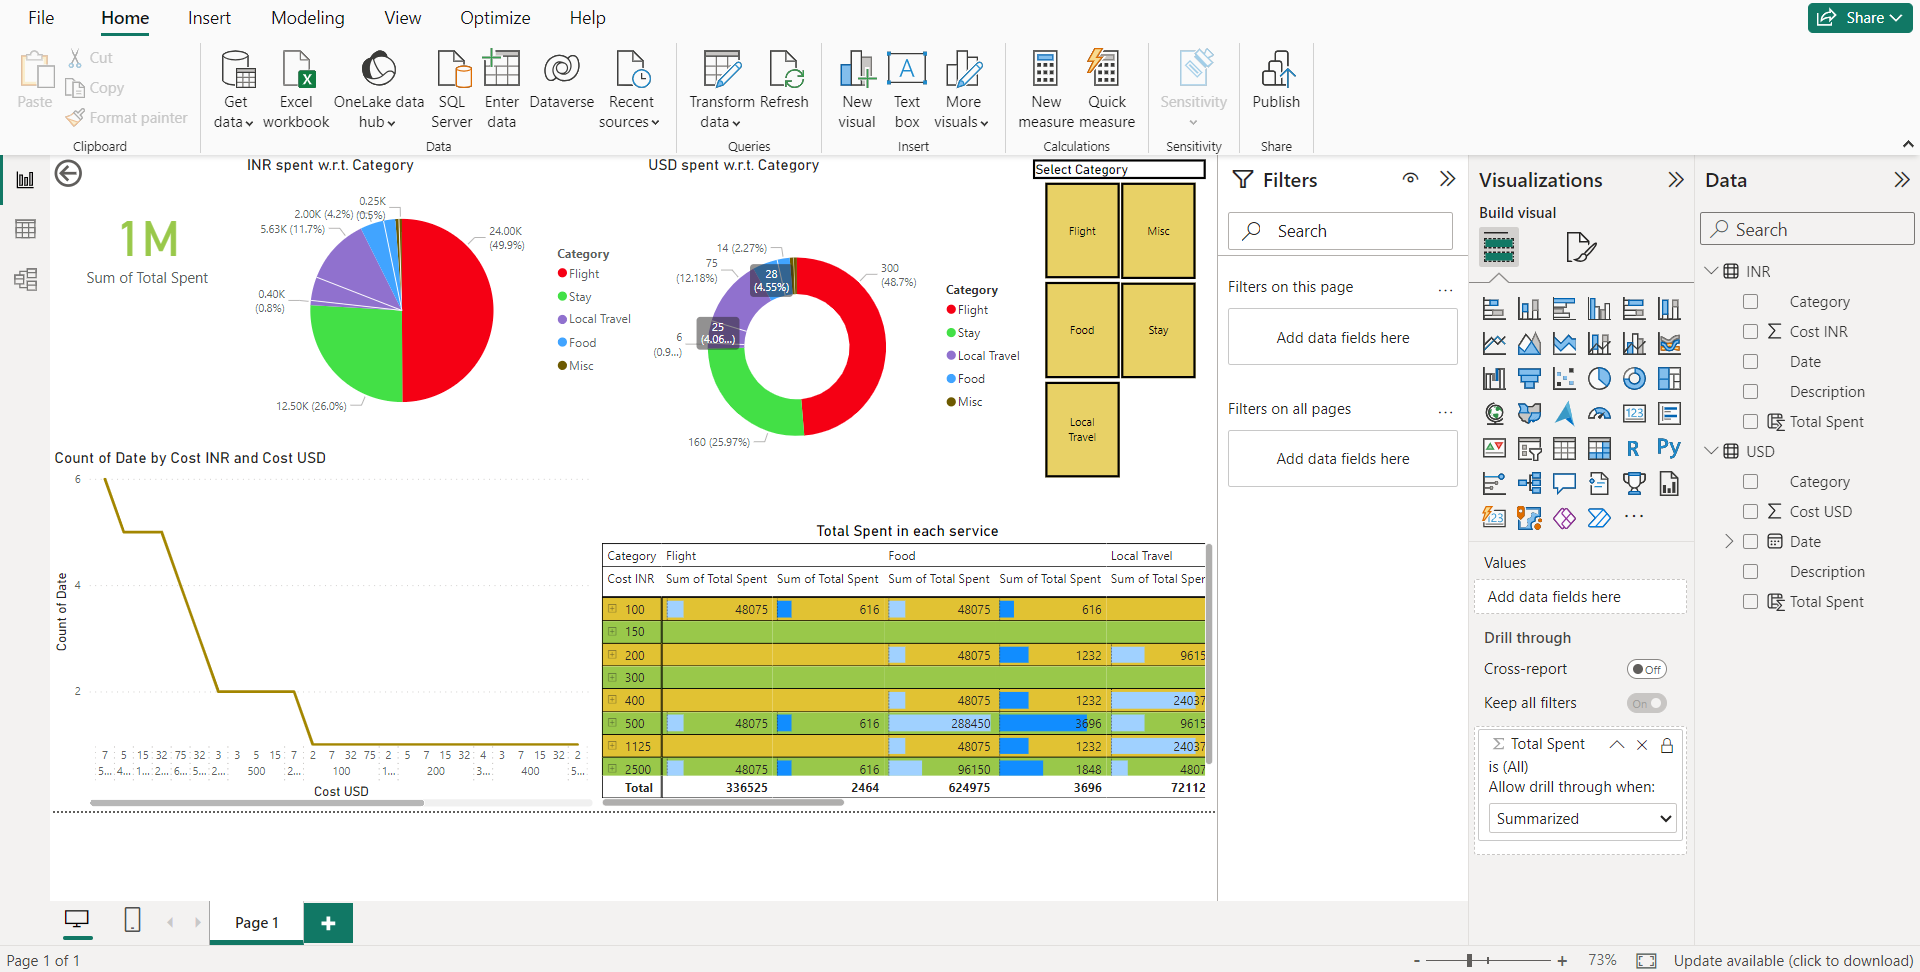

Layout of this report page (visuals, bound fields, positions):
{"tool":"powerbi","page":{"name":"Page 1","canvas":[1280,720],"ordinal":0},"visuals":[{"type":"card","fields":{"Values":["Sum(INR.Total Spent)"]},"box":[0,0,213.9,191.9],"z":0},{"type":"pieChart","title":"INR spent w.r.t. Category","fields":{"Category":["INR.Category"],"Y":["Sum(INR.Cost INR)"],"Series":["INR.Description"]},"box":[211.1,0,440.1,322.2],"z":1},{"type":"lineChart","fields":{"Y":["CountNonNull(INR.Date)"],"Category":["INR.Cost INR","USD.Cost USD"]},"box":[0,322.2,600.5,397.6],"z":2},{"type":"slicer","fields":{"Values":["INR.Category"]},"box":[1065.3,0,215.3,360.6],"z":4},{"type":"donutChart","title":"USD spent w.r.t. Category","fields":{"Category":["USD.Category"],"Y":["Sum(USD.Cost USD)"],"Series":["USD.Description"]},"box":[651.2,0,426.4,401.7],"z":5},{"type":"pivotTable","title":"Total Spent in each service","fields":{"Columns":["USD.Category","INR.Category"],"Rows":["INR.Cost INR","USD.Cost USD"],"Values":["Sum(INR.Total Spent)","Sum(USD.Total Spent)"]},"box":[600.5,401.7,680,318.1],"z":6},{"type":"actionButton","box":[0,0,100,40],"z":7}]}

Visuals, with their boxes on the page's 1280x720 design canvas (x1, y1, x2, y2). These are canvas units, not pixel positions in the 1920x972 screenshot, which may show the page scaled, cropped or inside an application window:
card - Sum(INR.Total Spent): {"left": 0, "top": 0, "right": 214, "bottom": 192}
"INR spent w.r.t. Category" pieChart: {"left": 211, "top": 0, "right": 651, "bottom": 322}
lineChart - CountNonNull(INR.Date) x INR.Cost INR: {"left": 0, "top": 322, "right": 600, "bottom": 720}
slicer - INR.Category: {"left": 1065, "top": 0, "right": 1281, "bottom": 361}
"USD spent w.r.t. Category" donutChart: {"left": 651, "top": 0, "right": 1078, "bottom": 402}
"Total Spent in each service" pivotTable: {"left": 600, "top": 402, "right": 1280, "bottom": 720}
actionButton: {"left": 0, "top": 0, "right": 100, "bottom": 40}
